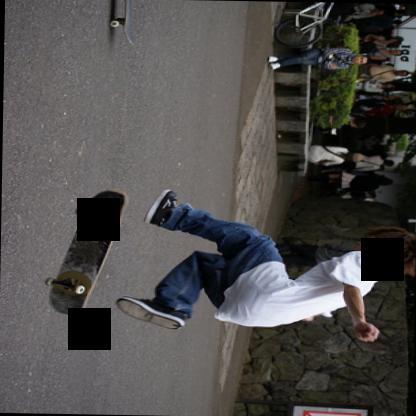backpack: (347, 176, 371, 189)
handbag: (313, 38, 351, 67), (320, 144, 344, 159), (358, 159, 379, 165)
